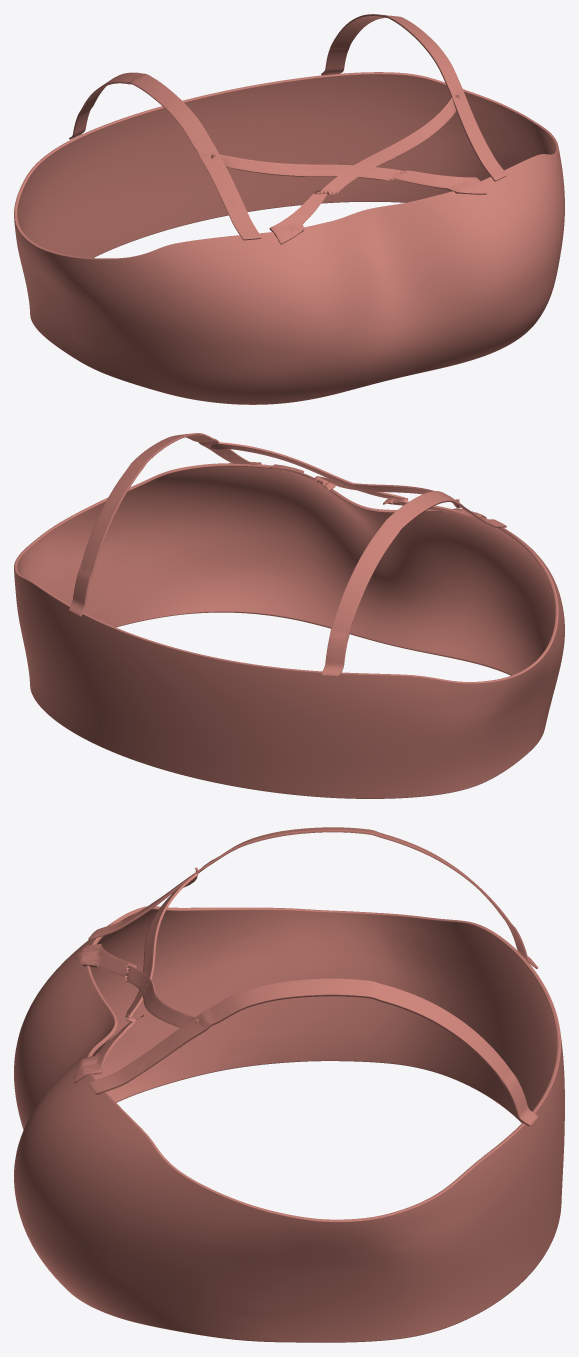
The model's file is Feminine-strappy-top.glb.
3 renders of one model, top to bottom at view 1: azimuth 30°, elevation 25°; view 2: azimuth 150°, elevation 25°; view 3: azimuth 270°, elevation 25°, orthographic. The views are drawn at different scales.
Parts seen in each view (by area): view 1: Clothing / strappy body, Clothing / Crop sewn strap201 -1, Clothing / Crop sewn strap201 1, Crop / sewn crossed strap201 -1, Crop / sewn crossed strap201 1; view 2: Clothing / strappy body, Clothing / Crop sewn strap201 -1, Clothing / Crop sewn strap201 1, Crop / sewn crossed strap201 1, Crop / sewn crossed strap201 -1; view 3: Clothing / strappy body, Clothing / Crop sewn strap201 1, Clothing / Crop sewn strap201 -1, Crop / sewn crossed strap201 1, Crop / sewn crossed strap201 -1.
Part boxes in pixels (bbox=[...]): Clothing / strappy body: bbox=[14, 72, 564, 404]; Clothing / Crop sewn strap201 -1: bbox=[69, 72, 261, 240]; Clothing / Crop sewn strap201 1: bbox=[321, 14, 506, 181]; Crop / sewn crossed strap201 -1: bbox=[211, 154, 486, 194]; Crop / sewn crossed strap201 1: bbox=[269, 94, 459, 244]; Clothing / strappy body: bbox=[14, 463, 564, 798]; Clothing / Crop sewn strap201 -1: bbox=[321, 491, 506, 676]; Clothing / Crop sewn strap201 1: bbox=[69, 433, 261, 616]; Crop / sewn crossed strap201 1: bbox=[211, 442, 486, 519]; Crop / sewn crossed strap201 -1: bbox=[269, 464, 460, 508]; Clothing / strappy body: bbox=[14, 906, 564, 1342]; Clothing / Crop sewn strap201 1: bbox=[88, 978, 538, 1126]; Clothing / Crop sewn strap201 -1: bbox=[88, 827, 538, 968]; Crop / sewn crossed strap201 1: bbox=[74, 944, 198, 1027]; Crop / sewn crossed strap201 -1: bbox=[74, 867, 198, 1083].
Size of the model in its own units: 0.6122 by 0.2873 by 0.4583.
